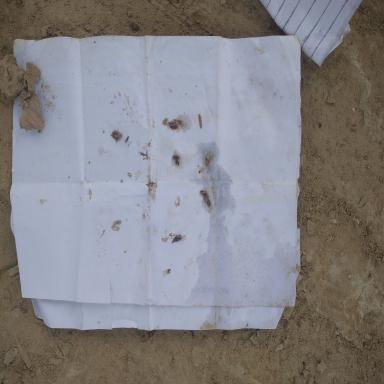pbw: (203, 194, 211, 208), (171, 234, 182, 244), (200, 190, 209, 197), (198, 114, 202, 129), (167, 121, 176, 126), (170, 124, 178, 129), (112, 134, 122, 138)
